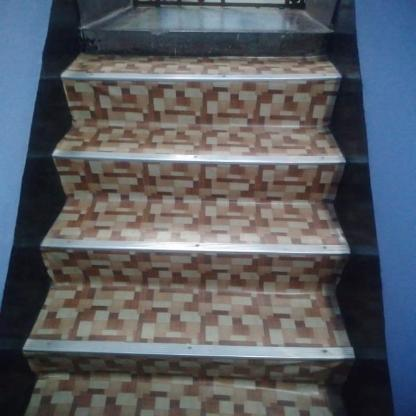stair: (22, 21, 348, 416)
